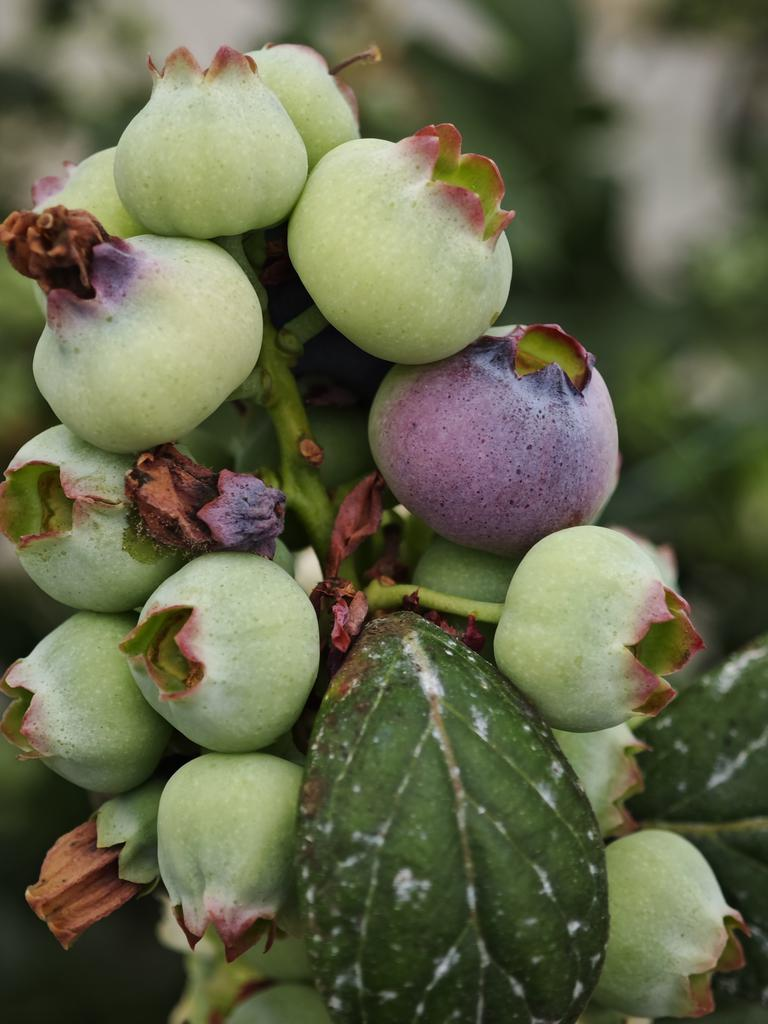Semi-RipeBlueBerry: (374, 329, 619, 530)
UnripeBlueBerry: (29, 223, 263, 446), (290, 134, 520, 359), (489, 519, 690, 731), (136, 547, 321, 751), (120, 49, 307, 234)
